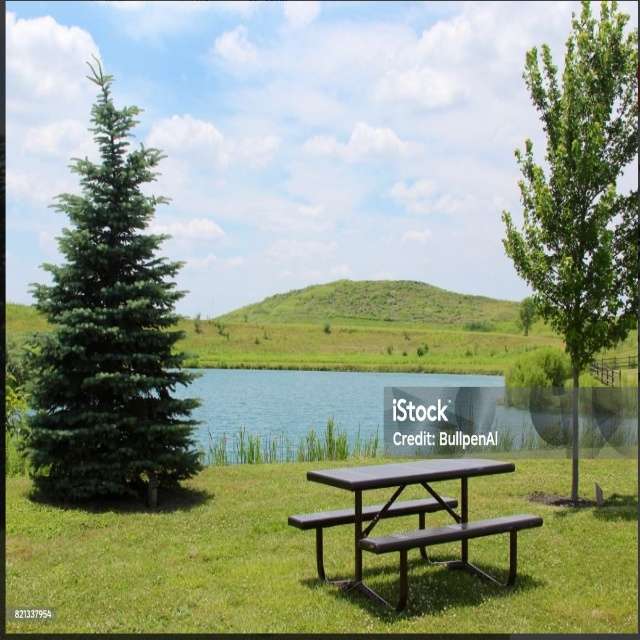obstacle: (290, 450, 546, 603)
